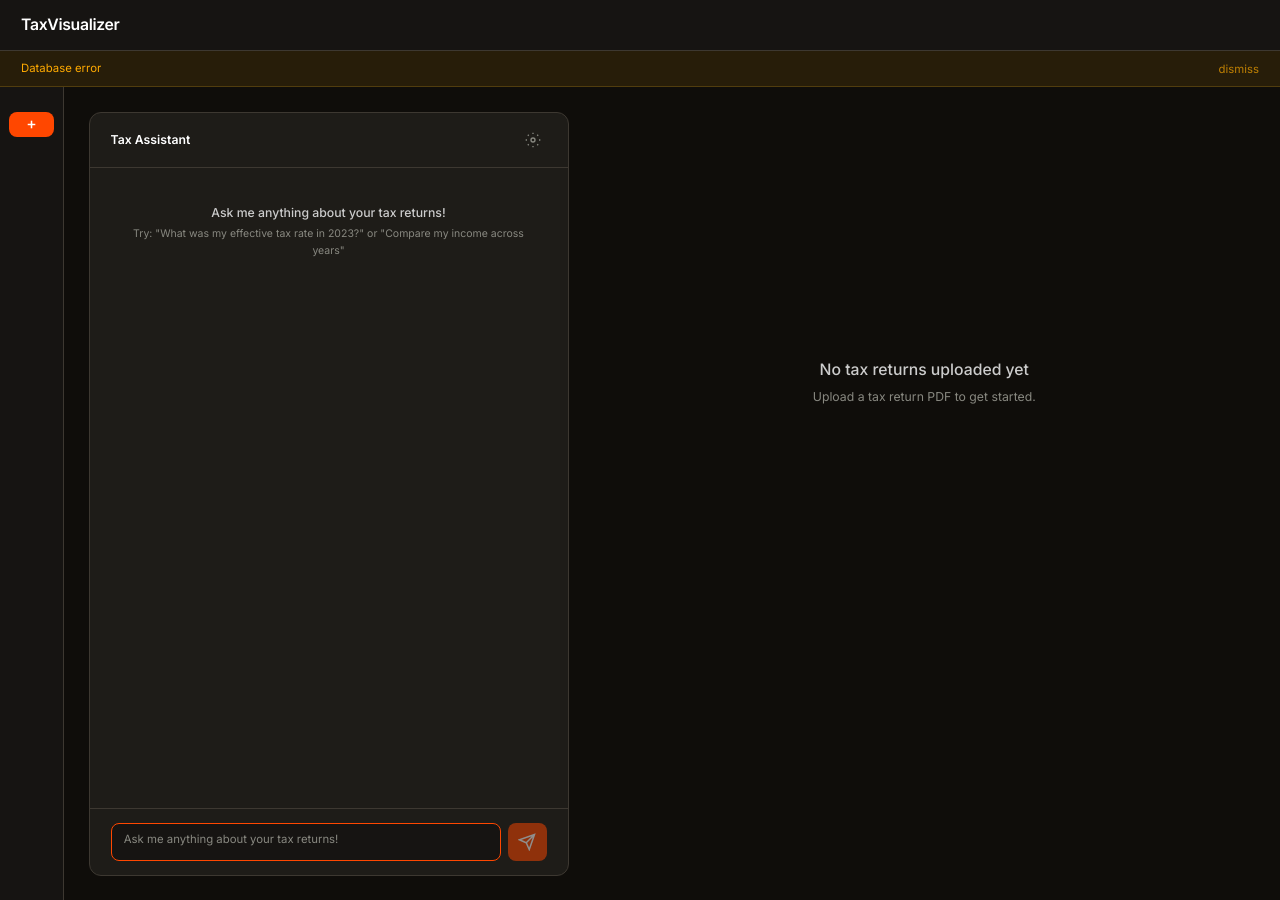
App › dismisses error banner when dismiss button is clicked
The image size is (1280, 900).
Expected: the text "Database error" is shown, [21,59,101,78]
Click the button "dismiss".
click(1239, 68)  # box [1219,62,1259,76]
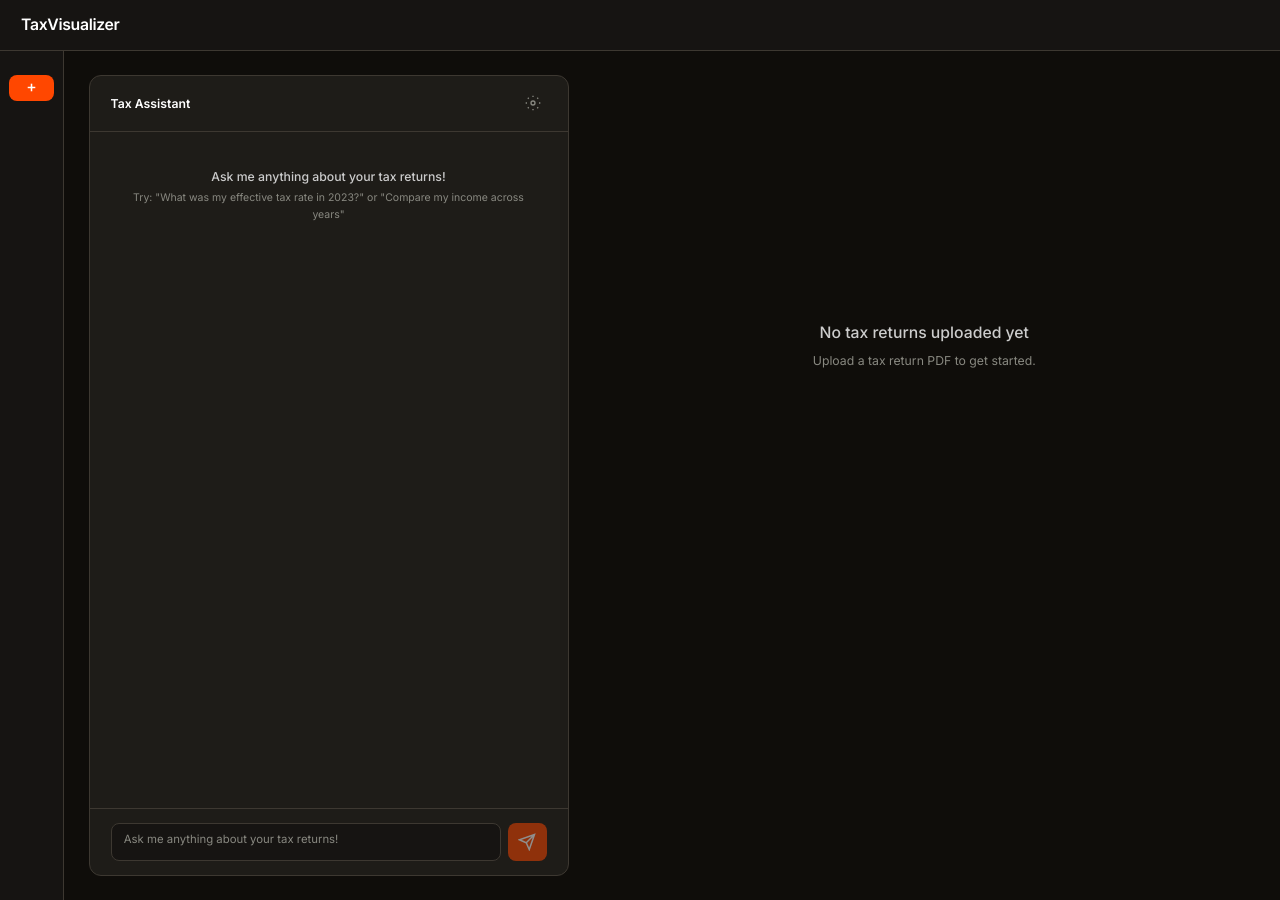
Result: the text "Database error" is gone
